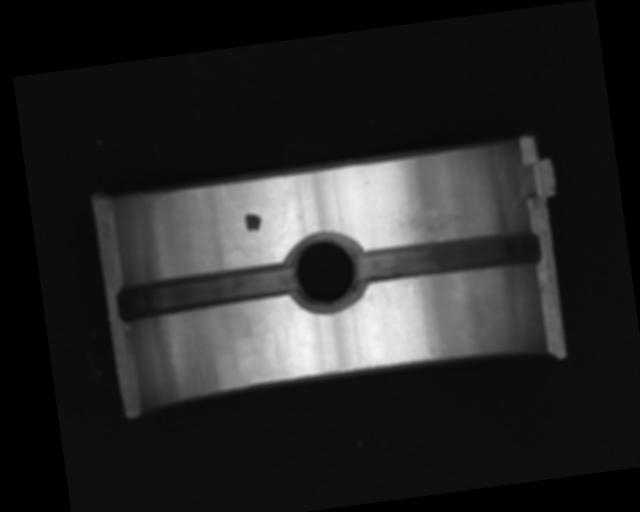blot: (244, 211, 263, 233)
gap: (351, 227, 544, 288), (114, 261, 295, 321)
hole: (282, 229, 366, 315)
nick: (399, 283, 421, 343)
scratch: (389, 192, 496, 246)
